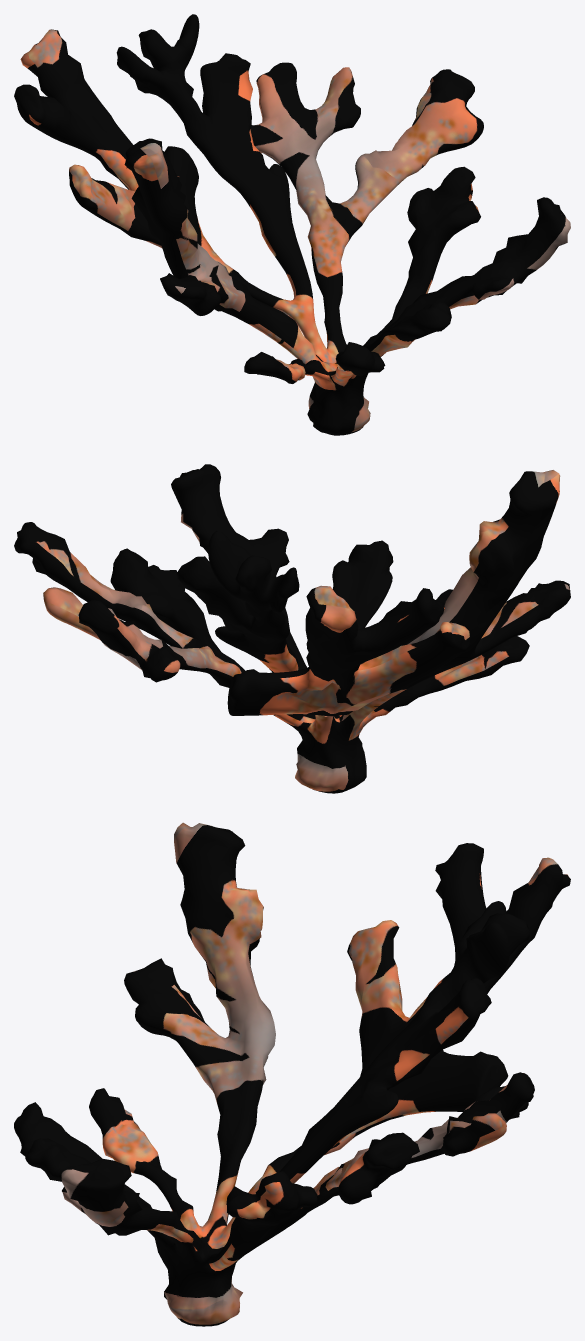
3 renders of one model, top to bottom at view 1: azimuth 30°, elevation 25°; view 2: azimuth 150°, elevation 25°; view 3: azimuth 270°, elevation 25°, orthographic. The views are drawn at different scales.
Visible parts, largest first — view 1: coral_elkhorn; view 2: coral_elkhorn; view 3: coral_elkhorn.
Boxes of the visible parts, box(x1,y1,x2,y2) form: coral_elkhorn: box(14, 14, 570, 435); coral_elkhorn: box(14, 464, 570, 793); coral_elkhorn: box(14, 822, 570, 1326).
Bounding box in the file's own units: 66.85 × 51 × 66.01.
Materials: 1 (1 with a texture image).
